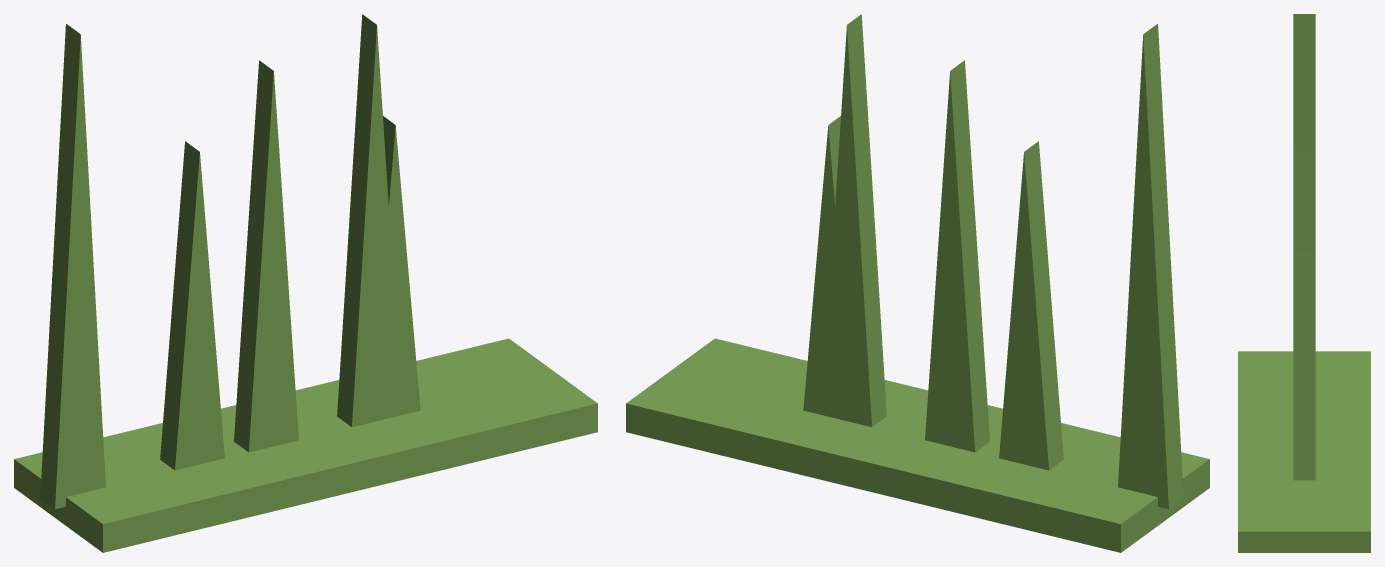
File: GG-VEG-GRASS-COASTAL-DENSE-001_LOD_MAP.glb
The picture shows the model from 3 angles, left to right: view 1: azimuth 30°, elevation 25°; view 2: azimuth 150°, elevation 25°; view 3: azimuth 270°, elevation 25°; orthographic projection. The views are drawn at different scales.
Visible parts, largest first — view 1: GG_VEG_MOD_BASE_001, GG_VEG_MODULE_4, GG_VEG_MODULE_5, GG_VEG_MODULE_2, GG_VEG_MODULE_3, GG_VEG_MODULE_1, GG_VEG_MODULE_6; view 2: GG_VEG_MOD_BASE_001, GG_VEG_MODULE_4, GG_VEG_MODULE_2, GG_VEG_MODULE_5, GG_VEG_MODULE_3, GG_VEG_MODULE_1, GG_VEG_MODULE_6; view 3: GG_VEG_MOD_BASE_001, GG_VEG_MODULE_6, GG_VEG_MODULE_4, GG_VEG_MODULE_2, GG_VEG_MODULE_5.
Boxes of the visible parts, box(x1,y1,x2,y2) form: GG_VEG_MOD_BASE_001: box(14, 338, 597, 552); GG_VEG_MODULE_4: box(40, 24, 105, 509); GG_VEG_MODULE_5: box(234, 60, 298, 452); GG_VEG_MODULE_2: box(337, 14, 401, 427); GG_VEG_MODULE_3: box(160, 141, 224, 470); GG_VEG_MODULE_1: box(370, 168, 420, 422); GG_VEG_MODULE_6: box(379, 116, 420, 415); GG_VEG_MOD_BASE_001: box(626, 338, 1209, 552); GG_VEG_MODULE_4: box(1118, 24, 1183, 509); GG_VEG_MODULE_2: box(822, 14, 886, 427); GG_VEG_MODULE_5: box(925, 60, 989, 452); GG_VEG_MODULE_3: box(999, 141, 1063, 470); GG_VEG_MODULE_1: box(804, 173, 852, 422); GG_VEG_MODULE_6: box(803, 116, 846, 414); GG_VEG_MOD_BASE_001: box(1238, 351, 1370, 552); GG_VEG_MODULE_6: box(1293, 253, 1315, 480); GG_VEG_MODULE_4: box(1293, 14, 1315, 146); GG_VEG_MODULE_2: box(1293, 168, 1315, 253); GG_VEG_MODULE_5: box(1293, 147, 1315, 168).
Size of the model in its own units: 1.1 by 1.02 by 0.336.
